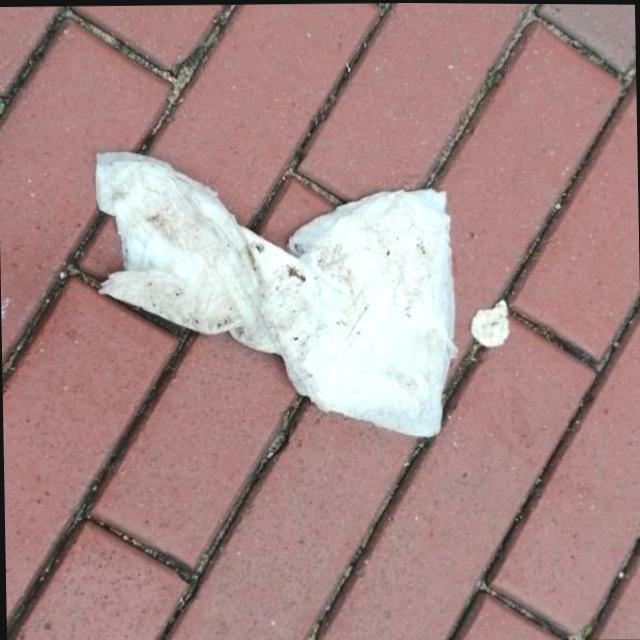Paper: (89, 140, 461, 446)
